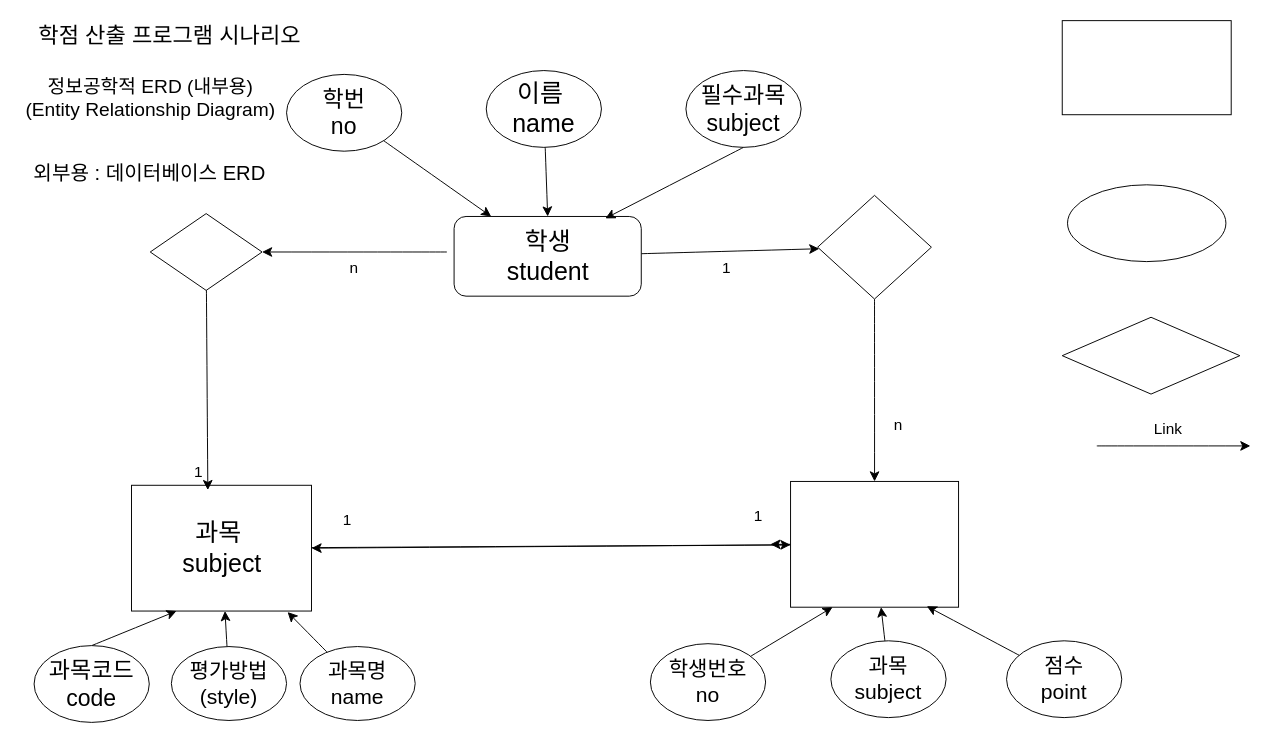
Some shapes in this 1266 by 739 pixel diagram are drawn without their labels. The shapes that lost their labels are listed below. From the top down, each one's centre as x and y in pixels, then its label:
(x=1146, y=67): Entity 클래스
(x=1146, y=223): Altribute
(x=205, y=251): 수강
(x=874, y=246): 응시
(x=1150, y=355): Relation
(x=874, y=543): 점수 score
